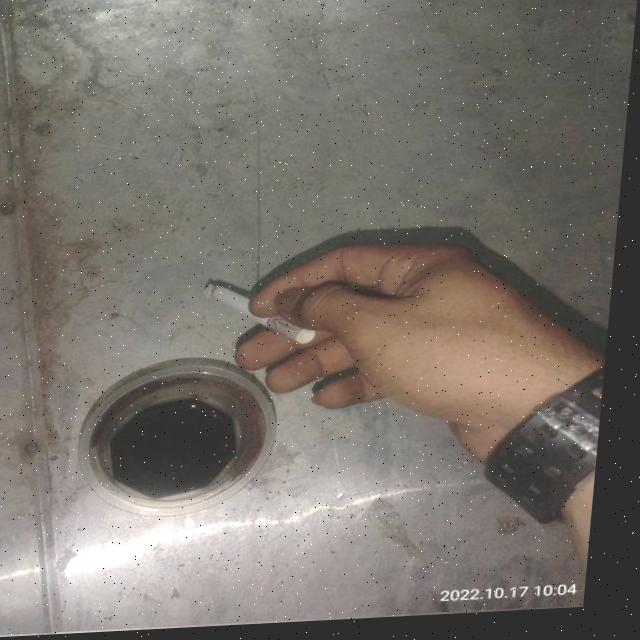cigarette: (202, 277, 326, 354)
